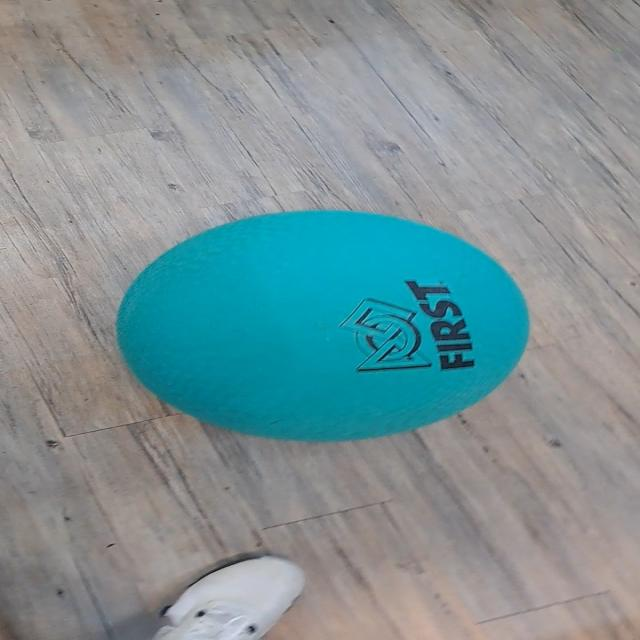ALGAE: (113, 208, 531, 443)
